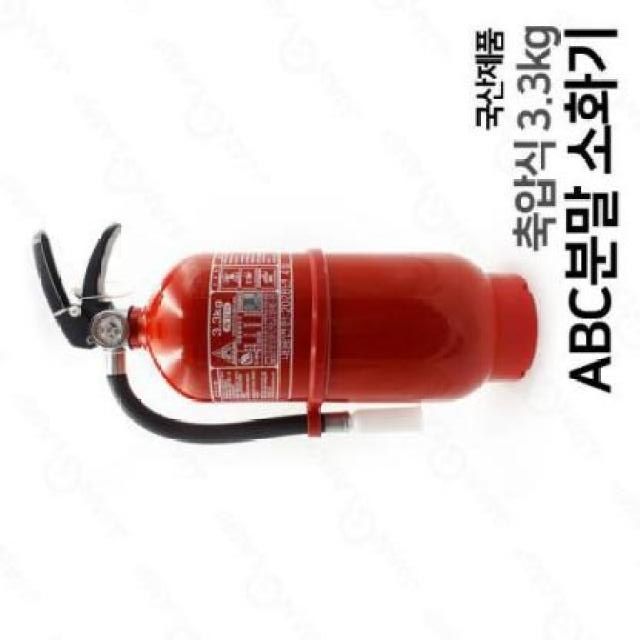fire extinguisher: (31, 224, 537, 445)
